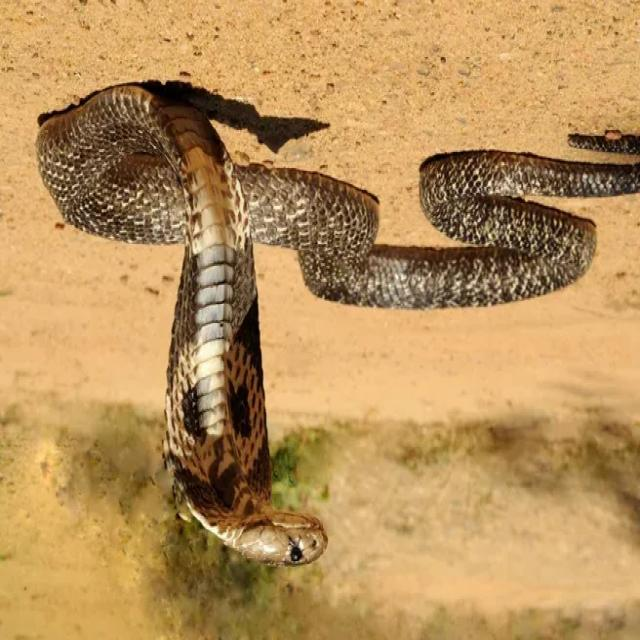Venomous: (125, 226, 350, 579)
